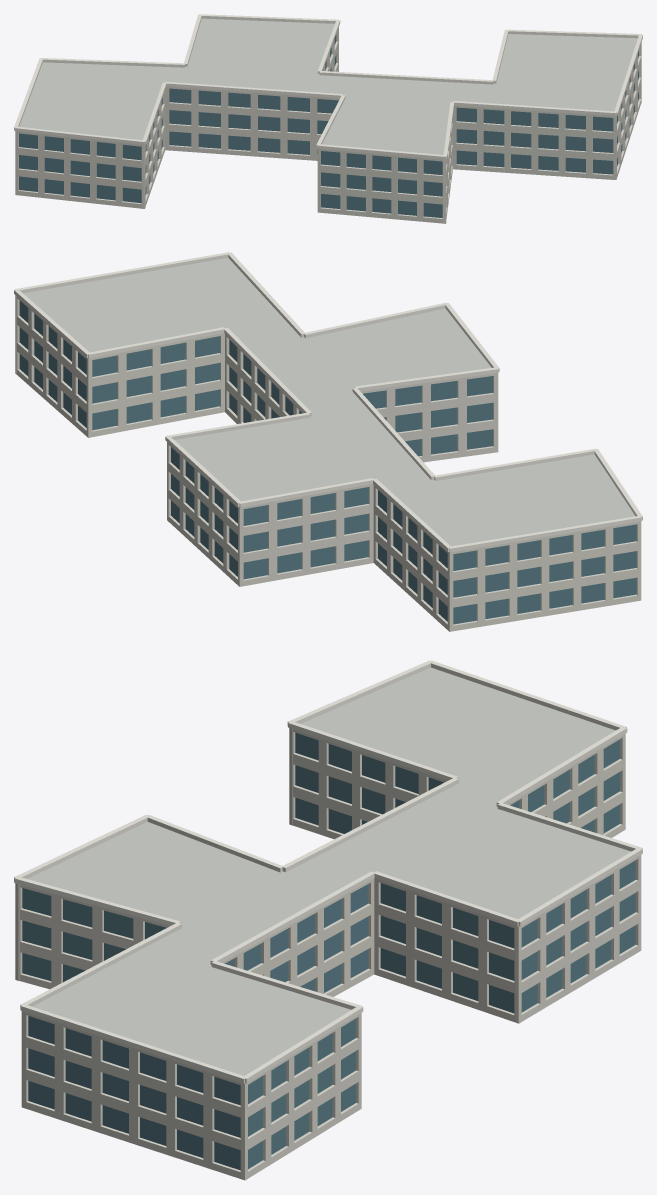
File: sb_1556523925.far.glb
The picture shows the model from 3 angles, top to bottom: view 1: azimuth 30°, elevation 25°; view 2: azimuth 150°, elevation 25°; view 3: azimuth 270°, elevation 25°; orthographic projection. The views are drawn at different scales.
Visible parts, largest first — view 1: roof, wall, glass, trim; view 2: roof, wall, glass, trim; view 3: roof, wall, glass, trim.
Part boxes in pixels (box(x1,y1,x2,y2)): roof: box(19, 18, 637, 154); wall: box(15, 27, 641, 223); glass: box(19, 34, 638, 217); trim: box(14, 14, 642, 159); roof: box(23, 258, 634, 546); wall: box(15, 295, 641, 631); glass: box(19, 300, 636, 624); trim: box(14, 252, 642, 552); roof: box(27, 667, 631, 1075); wall: box(15, 728, 641, 1180); glass: box(22, 732, 635, 1170); trim: box(14, 660, 642, 1083).
Size of the model in its own units: 85.67 by 9.74 by 54.4.
